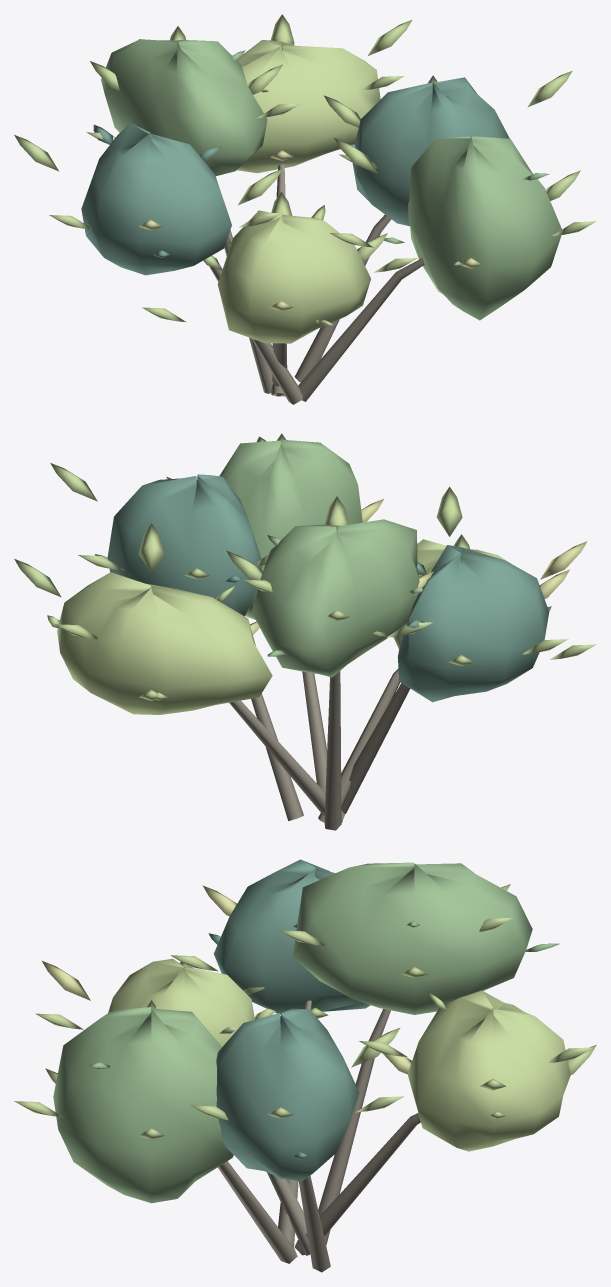
3 views of the same model, one above another, from view 1: azimuth 30°, elevation 25°; view 2: azimuth 150°, elevation 25°; view 3: azimuth 270°, elevation 25° (orthographic). The views are drawn at different scales.
Parts seen in each view (by area): view 1: bush_dry; view 2: bush_dry; view 3: bush_dry.
Boxes of the visible parts, x1=… form: bush_dry: x1=14, y1=14, x2=596, y2=404; bush_dry: x1=14, y1=433, x2=596, y2=830; bush_dry: x1=14, y1=859, x2=596, y2=1272.
Bounding box in the file's own units: 2.46 × 1.54 × 2.24.
